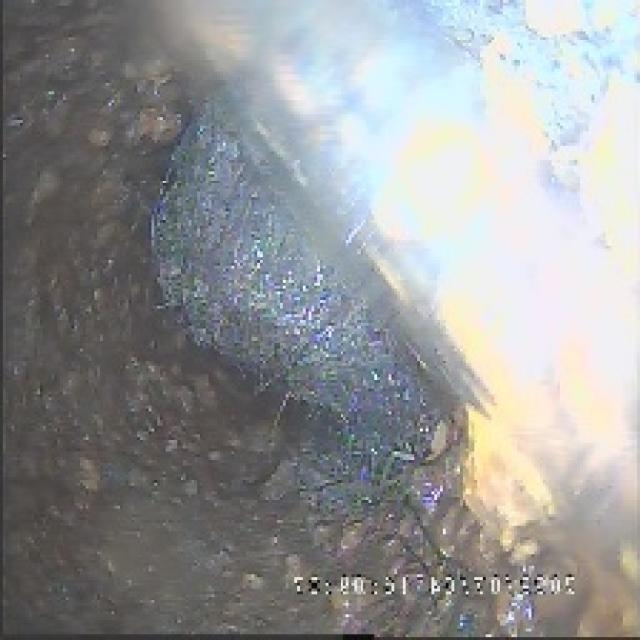Root_blockage: (137, 103, 437, 463)
